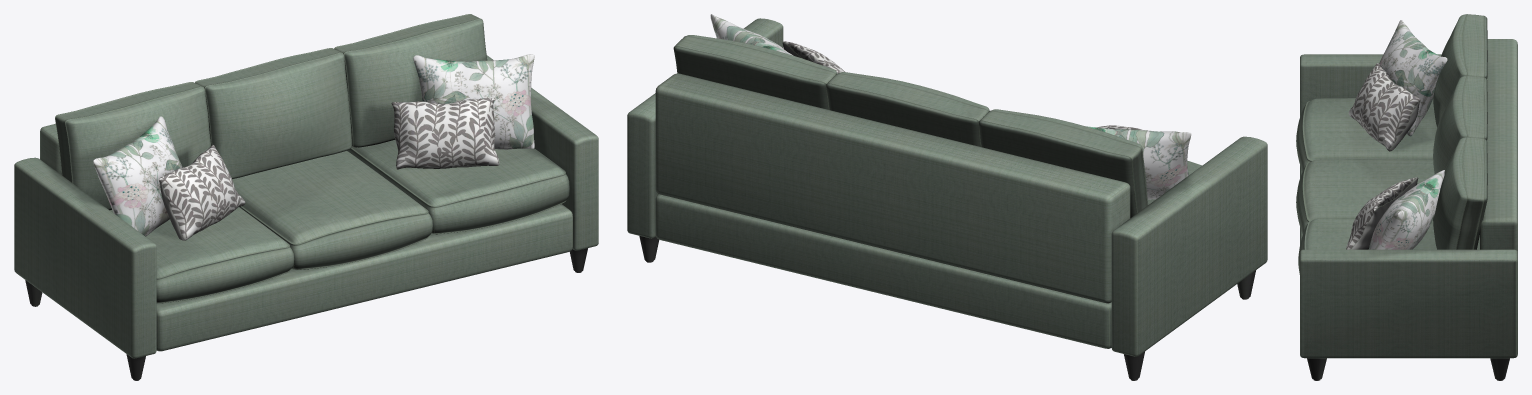
The model's file is green_sofa.glb.
The picture shows the model from 3 angles, left to right: view 1: azimuth 30°, elevation 25°; view 2: azimuth 150°, elevation 25°; view 3: azimuth 270°, elevation 25°; orthographic projection. The views are drawn at different scales.
Visible parts, largest first — view 1: Object_2, Object_5, Object_3, Object_6, Object_4, Object_7; view 2: Object_7, Object_3, Object_2, Object_6; view 3: Object_3, Object_2, Object_5, Object_7, Object_6, Object_4.
Part boxes in pixels (x1=…): Object_2: x1=55, y1=14, x2=534, y2=240; Object_5: x1=110, y1=140, x2=569, y2=303; Object_3: x1=14, y1=55, x2=598, y2=358; Object_6: x1=25, y1=204, x2=587, y2=380; Object_4: x1=157, y1=169, x2=381, y2=227; Object_7: x1=40, y1=123, x2=61, y2=174; Object_7: x1=655, y1=73, x2=1130, y2=303; Object_3: x1=627, y1=18, x2=1267, y2=356; Object_2: x1=673, y1=14, x2=1191, y2=217; Object_6: x1=639, y1=194, x2=1255, y2=380; Object_3: x1=1300, y1=54, x2=1517, y2=358; Object_2: x1=1346, y1=14, x2=1487, y2=249; Object_5: x1=1296, y1=98, x2=1479, y2=274; Object_7: x1=1480, y1=39, x2=1517, y2=252; Object_6: x1=1300, y1=165, x2=1509, y2=380; Object_4: x1=1387, y1=136, x2=1405, y2=188.
Size of the model in its own units: 88 by 35.49 by 40.01.
5 materials, 5 textured.
